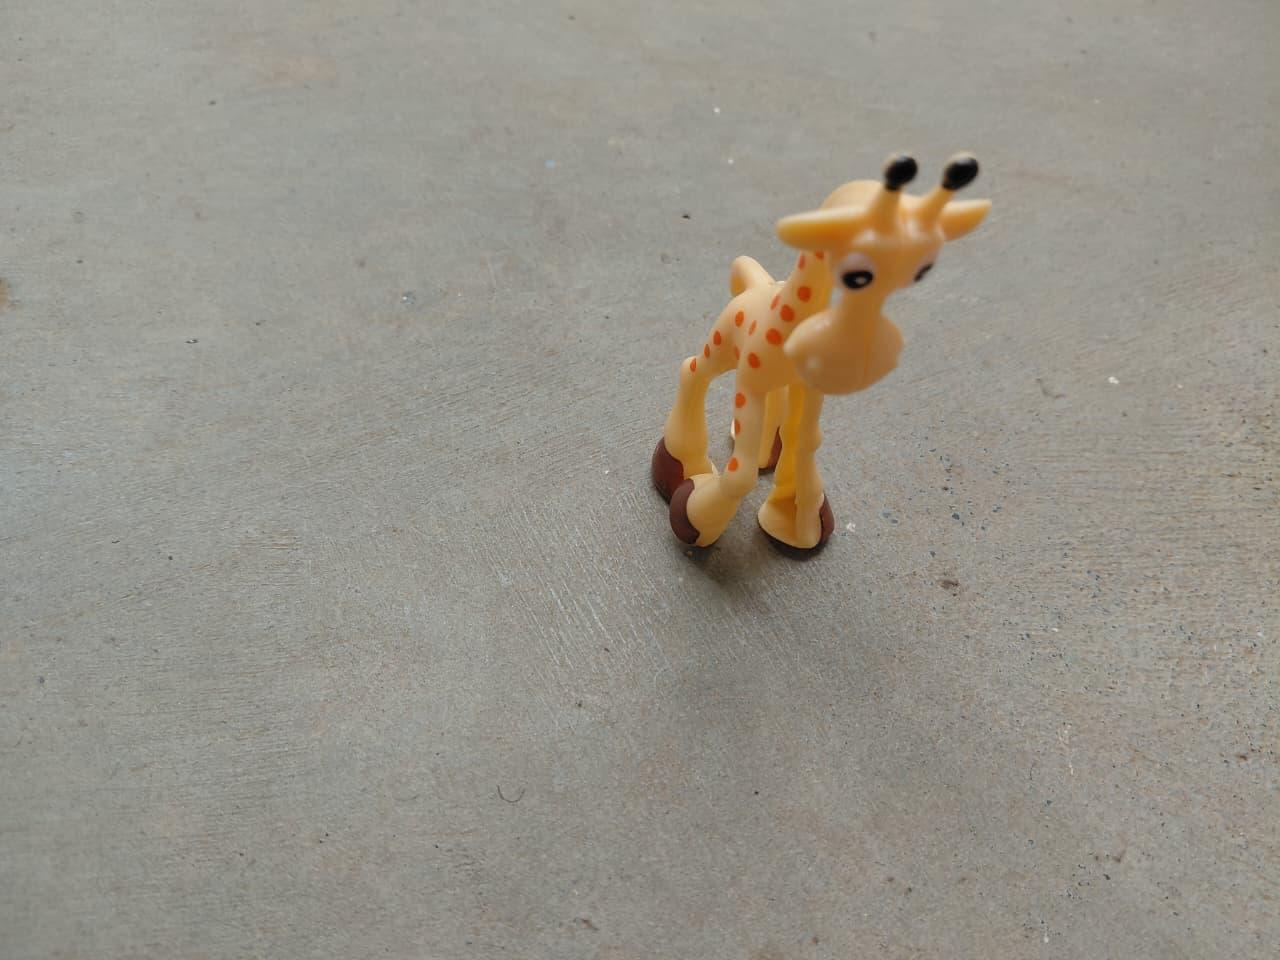giraffe: (642, 144, 1000, 588)
